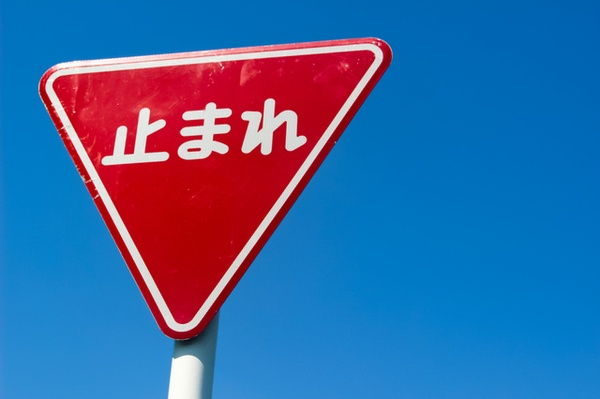Regulatory_sign_triangle: (32, 33, 396, 352)
